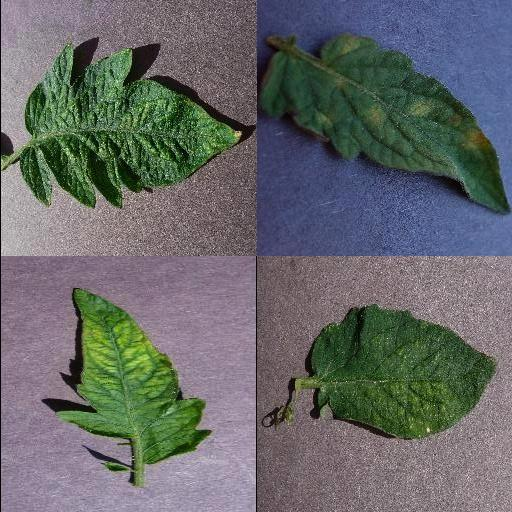Leaf Mold: (256, 34, 510, 214)
Mosaic Virus: (53, 285, 213, 465)
Spider Mites: (19, 44, 245, 209), (308, 304, 496, 440)
